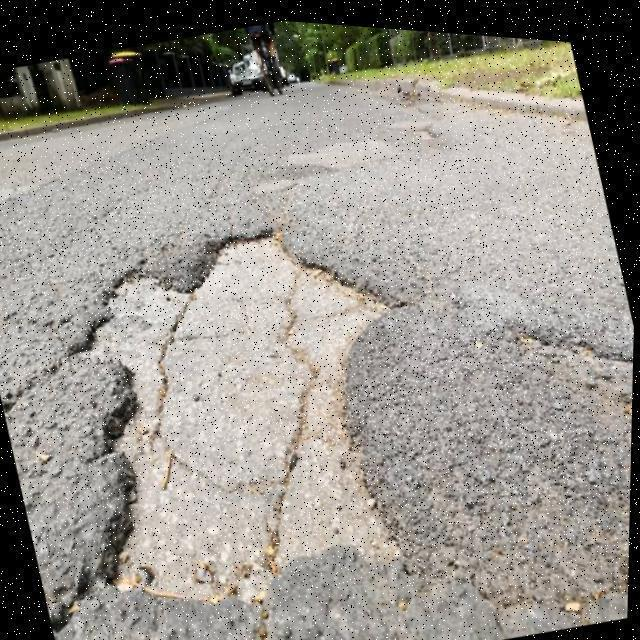Pothole: (71, 221, 412, 612)
